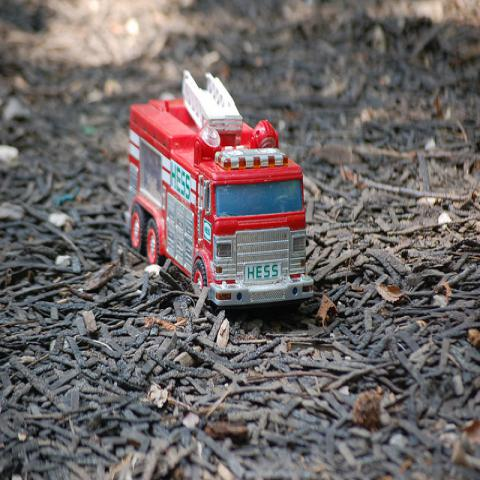truck: (124, 69, 317, 308)
